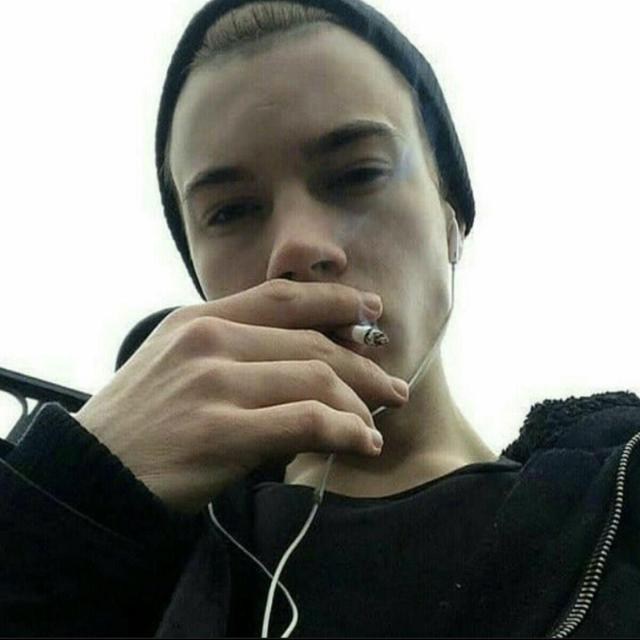cigarette: (316, 312, 405, 346)
